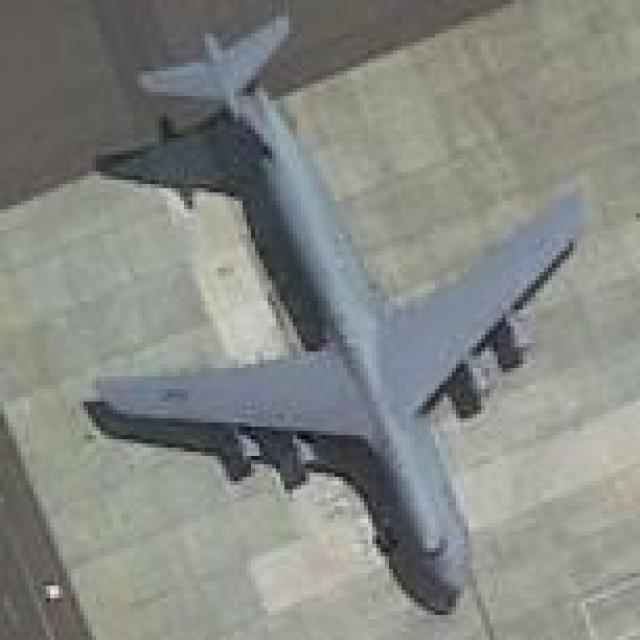C-5_TopDown: (81, 16, 600, 616)
